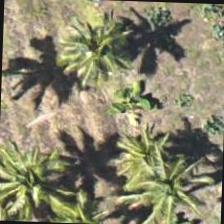Kelapa_Sawit: (106, 113, 199, 206), (52, 2, 144, 95), (123, 141, 218, 223), (0, 135, 78, 223)
